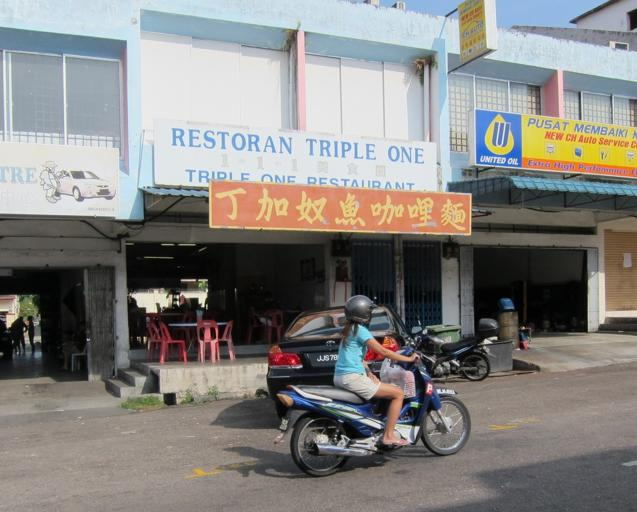non-vehicle: (270, 316, 471, 478), (407, 314, 500, 382)
